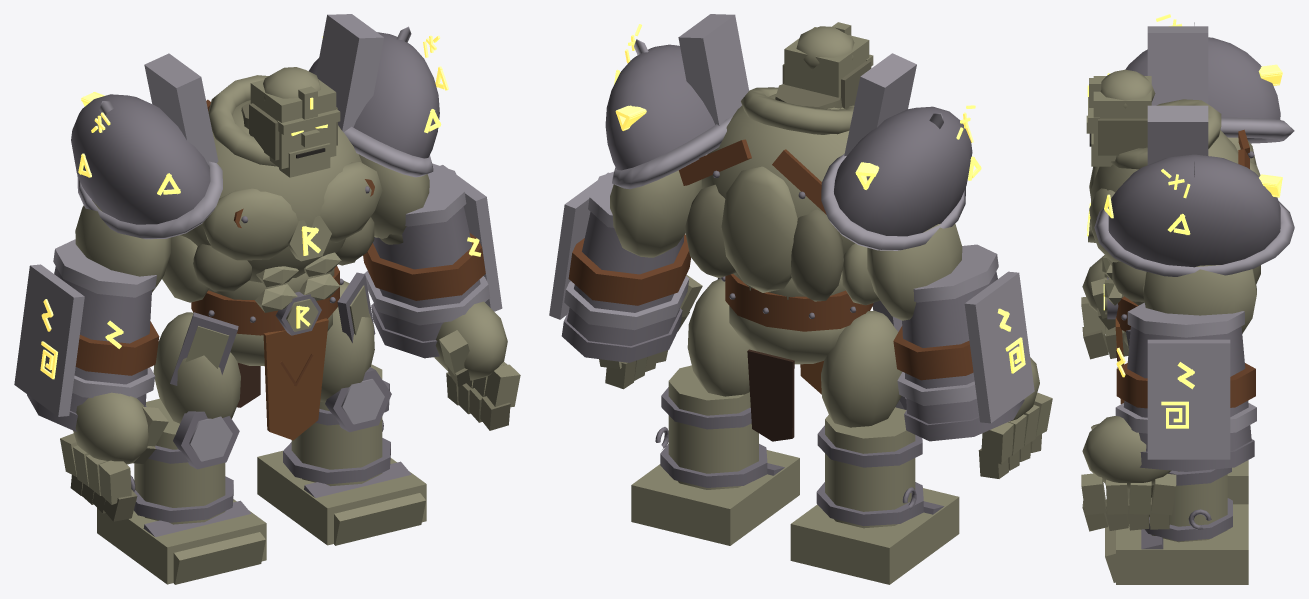
Rendered from 06-golem.glb.
3 views of the same model, side by side, from view 1: azimuth 30°, elevation 25°; view 2: azimuth 150°, elevation 25°; view 3: azimuth 270°, elevation 25° (orthographic). The views are drawn at different scales.
Parts seen in each view (by area): view 1: Golem, object 7, object 47, object 8, object 48, object 37, object 77, object 85, object 78, object 38; view 2: Golem, object 7, object 47, object 8, object 48, object 43; view 3: Golem, object 47, object 7, object 48, object 8, object 77, object 83, object 79, object 81, object 38, object 37, object 45 (+5 smaller).
Boxes of the visible parts, x1,y1,x2,y2 form: Golem: (14, 14, 507, 584); object 7: (71, 94, 210, 224); object 47: (309, 32, 439, 158); object 8: (77, 161, 222, 239); object 48: (344, 126, 433, 177); object 37: (99, 460, 131, 504); object 77: (484, 364, 520, 407); object 85: (439, 330, 469, 376); object 78: (480, 396, 510, 430); object 38: (103, 490, 137, 521); Golem: (549, 14, 1039, 584); object 7: (834, 106, 972, 236); object 47: (605, 44, 714, 170); object 8: (821, 154, 965, 250); object 48: (612, 116, 732, 189); object 43: (981, 422, 1013, 464); Golem: (1082, 26, 1260, 584); object 47: (1108, 154, 1280, 267); object 7: (1125, 37, 1280, 119); object 48: (1094, 201, 1294, 276); object 8: (1220, 117, 1294, 143); object 77: (1081, 473, 1106, 515); object 83: (1151, 474, 1176, 515); object 79: (1106, 479, 1128, 514); object 81: (1129, 481, 1151, 514); object 38: (1082, 327, 1108, 359); object 37: (1081, 297, 1105, 334); object 45: (1091, 278, 1107, 318).
Size of the model in its own units: 1.95 by 2.03 by 0.8592.
